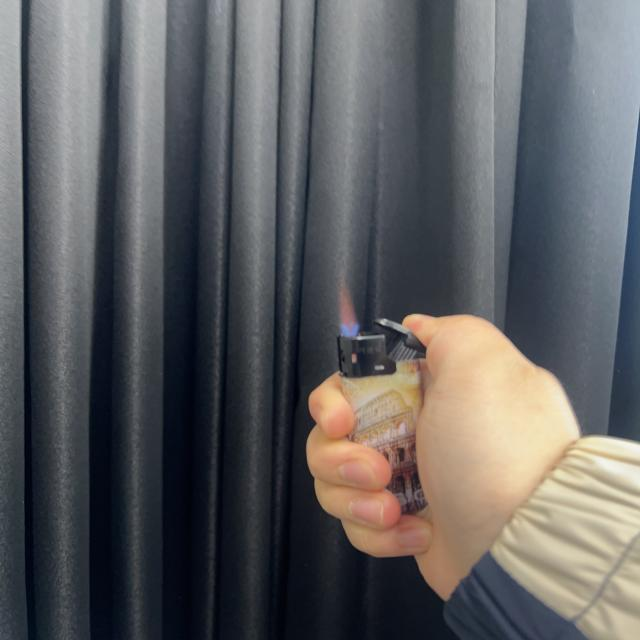fire: (336, 282, 362, 336)
